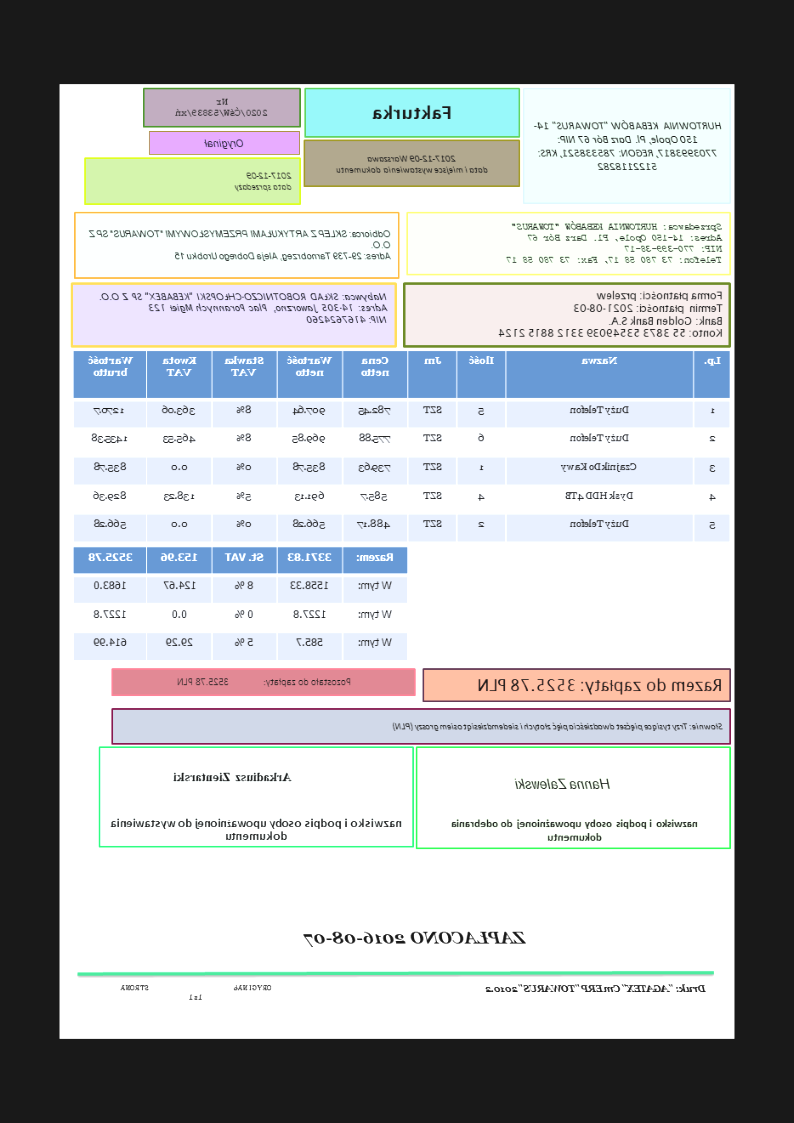Table: (71, 349, 732, 544), (72, 544, 410, 660)
TextBox: (86, 224, 395, 266), (96, 287, 392, 329), (496, 288, 727, 339), (503, 217, 727, 268), (531, 117, 724, 176), (106, 812, 406, 842), (446, 814, 702, 845), (475, 670, 728, 696), (299, 924, 529, 951), (389, 717, 728, 734), (333, 149, 493, 177), (479, 980, 710, 999), (118, 980, 275, 1005), (172, 672, 356, 690), (171, 94, 270, 120), (513, 770, 615, 795), (169, 768, 294, 788), (370, 100, 457, 122), (232, 168, 295, 196), (201, 134, 247, 151)
